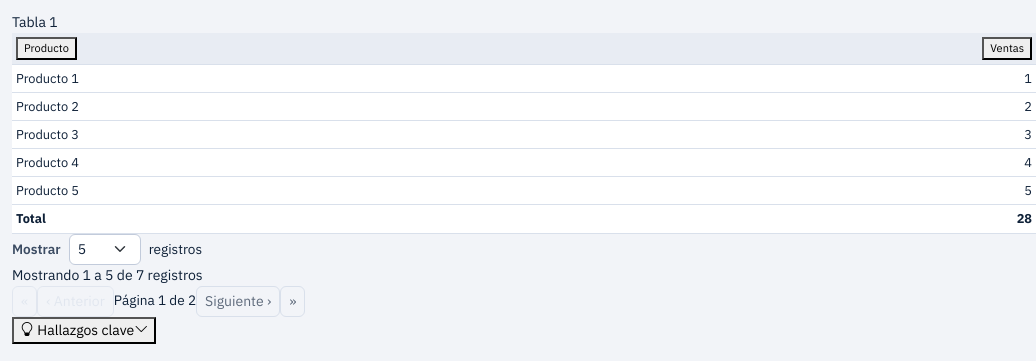
Test case: GenericDataTable › paginación › ordenar por una columna vuelve a la página 1
Click the button with aria-label "Página siguiente" at {"x": 238, "y": 301}, box [196, 286, 280, 317]
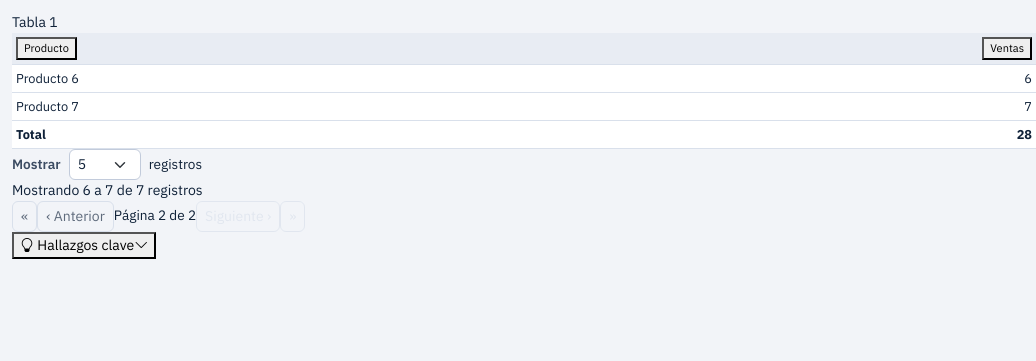
Now the text "Página 2 de 2" is shown, box [114, 206, 196, 224]
Click the button "Ventas" at {"x": 1007, "y": 48}, box [982, 37, 1032, 60]
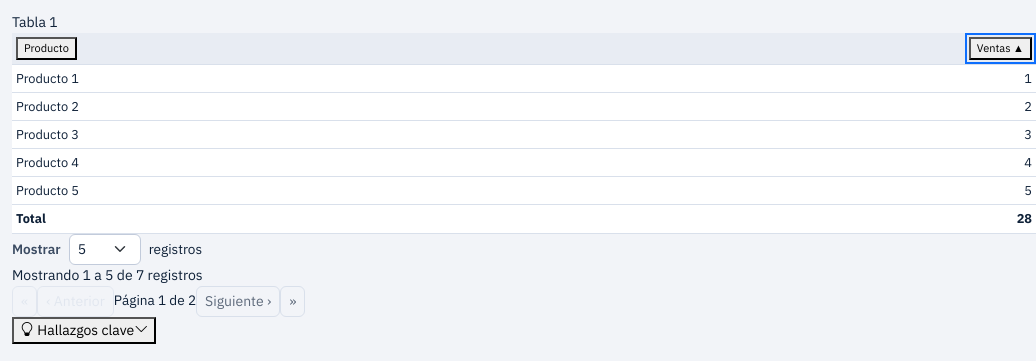
Now the text "Página 1 de 2" is shown, box [114, 291, 196, 309]
